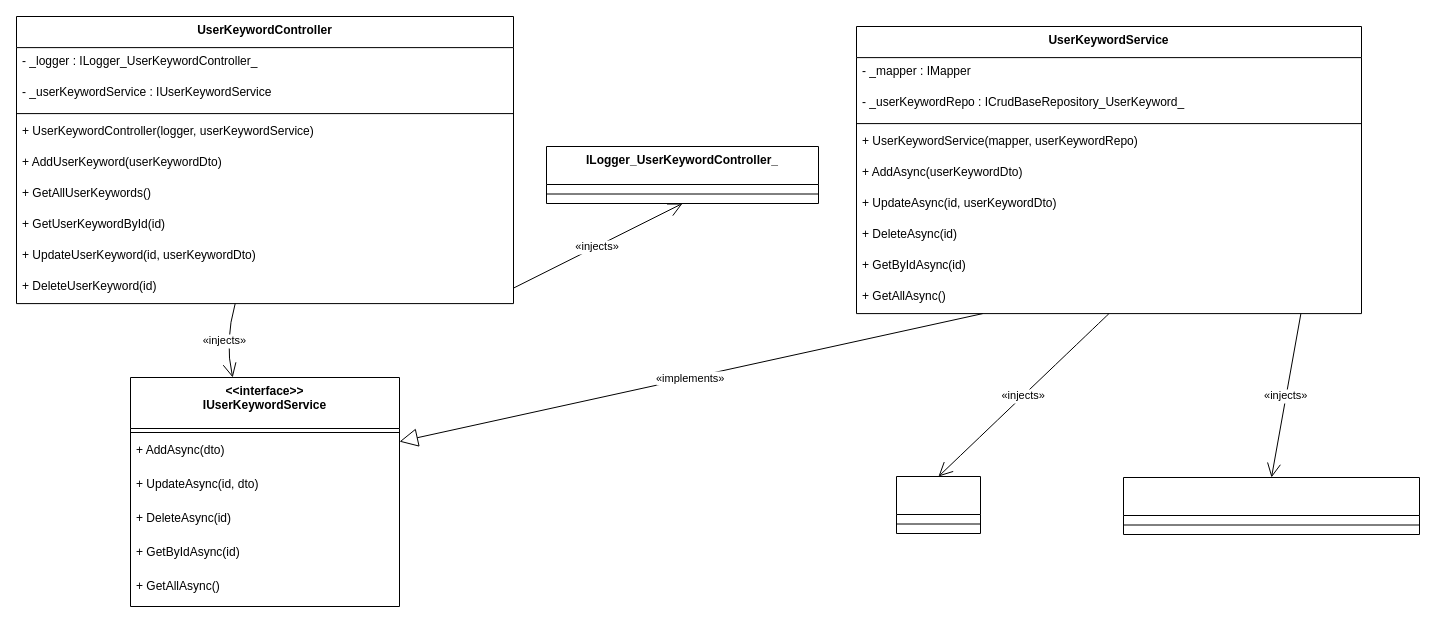
The diagram is 1436 pixels wide and 623 high, and some of its shapes have lost their labels. The centre of each missing label's shape, as x and y in pixels:
"ICrudBaseRepository_UserKeyword_" belongs at pixel 1271 505.
"IMapper" belongs at pixel 938 505.
